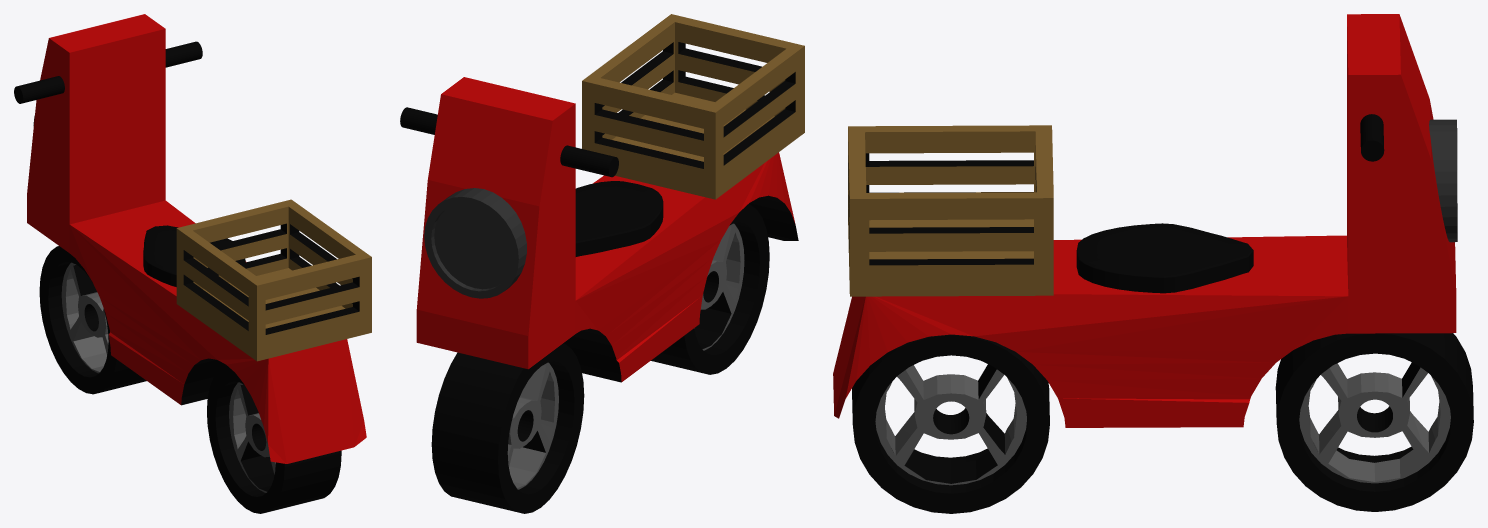
The model's file is player.obj.
The picture shows the model from 3 angles, left to right: view 1: azimuth 30°, elevation 25°; view 2: azimuth 150°, elevation 25°; view 3: azimuth 270°, elevation 25°; orthographic projection. The views are drawn at different scales.
Visible parts, largest first — view 1: 立方体.001; view 2: 立方体.001; view 3: 立方体.001.
Boxes of the visible parts, x1,y1,x2,y2 form: 立方体.001: (14, 14, 371, 513); 立方体.001: (400, 14, 804, 513); 立方体.001: (833, 14, 1473, 513).
Bounding box in the file's own units: 1.1 × 2.03 × 2.63.
1 material, 1 textured.
